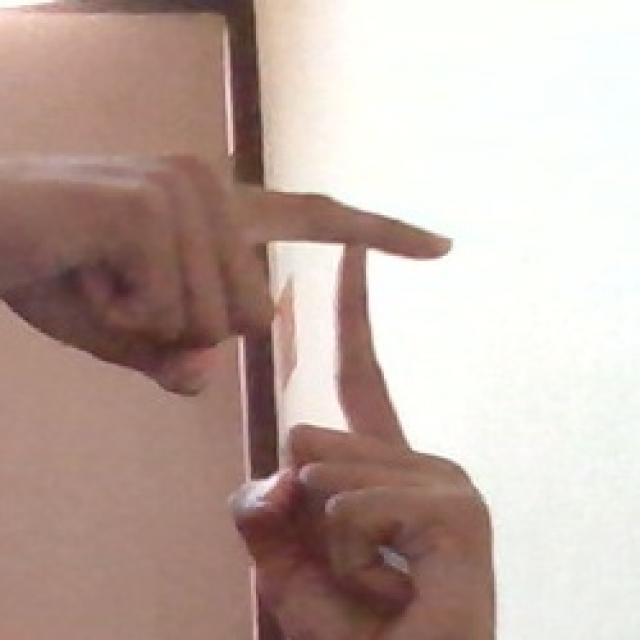Alphabet-T: (19, 138, 527, 640)
